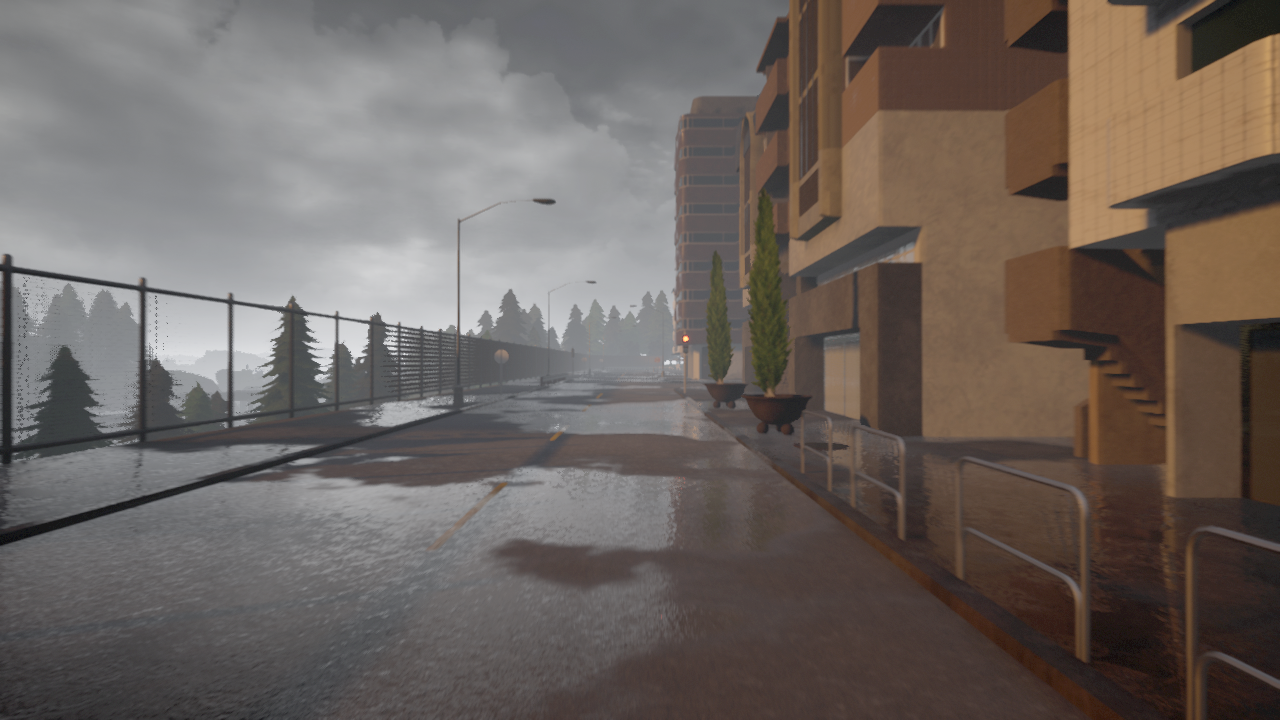red: (681, 334, 689, 354)
